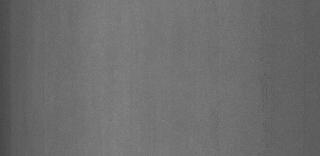silk spot: (254, 21, 282, 144)
